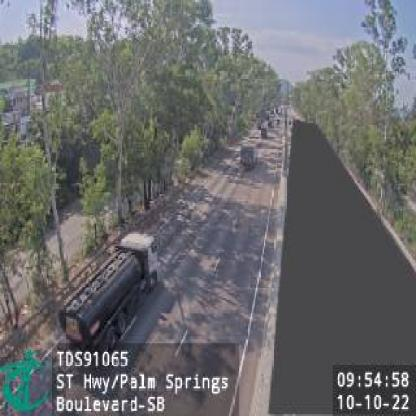Bus: (62, 233, 153, 361)
Truck: (240, 138, 257, 174)
